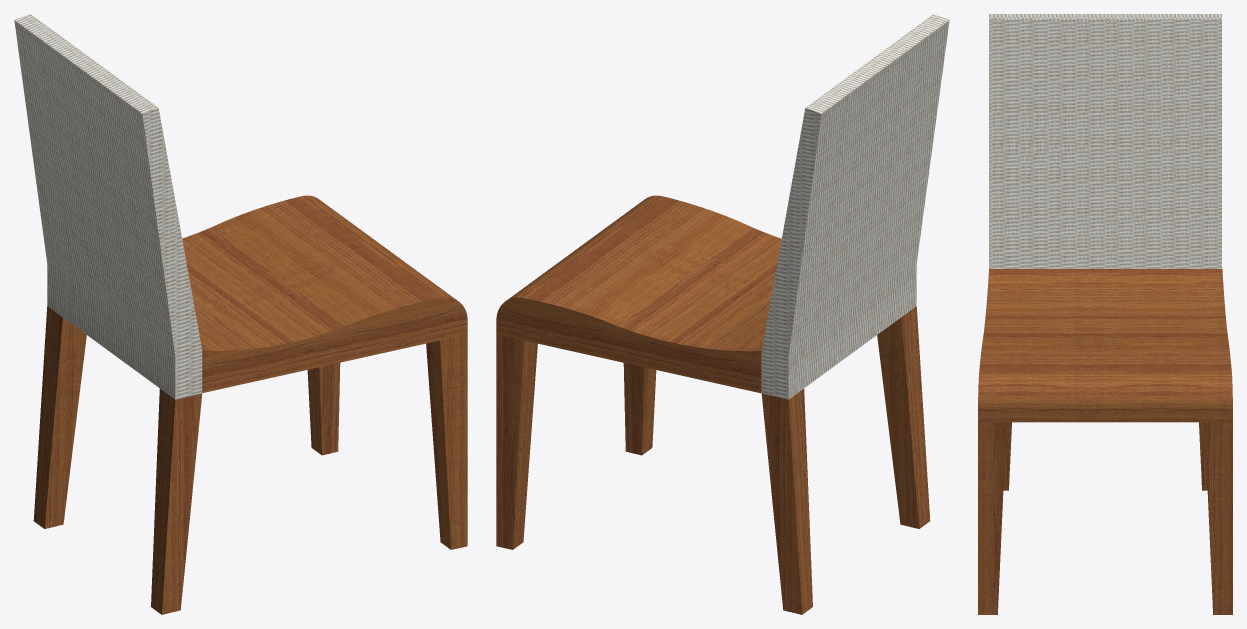
The model's file is rattan_chair.dae.
3 renders of one model, left to right at view 1: azimuth 30°, elevation 25°; view 2: azimuth 150°, elevation 25°; view 3: azimuth 270°, elevation 25°, orthographic. The views are drawn at different scales.
Visible parts, largest first — view 1: group_3 (×3), group_1, group_4 (×2), group_2 (×2); view 2: group_3 (×3), group_1, group_2 (×2), group_4 (×2); view 3: group_1, group_3 (×3), group_2, group_4.
Part boxes in pixels (x1,y1,x2,y2): group_3 (×3): (182,195,467,549); group_1: (14,14,202,399); group_4 (×2): (151,388,202,614); group_2 (×2): (33,306,86,528); group_3 (×3): (496,195,781,549); group_1: (761,14,949,399); group_2 (×2): (761,388,812,614); group_4 (×2): (877,306,930,528); group_1: (989,14,1221,268); group_3 (×3): (978,269,1232,614); group_2: (1199,422,1207,490); group_4: (1003,422,1011,490).
Bounding box in the file's own units: 23.26 × 17.72 × 35.39.
6 materials, 6 textured.
